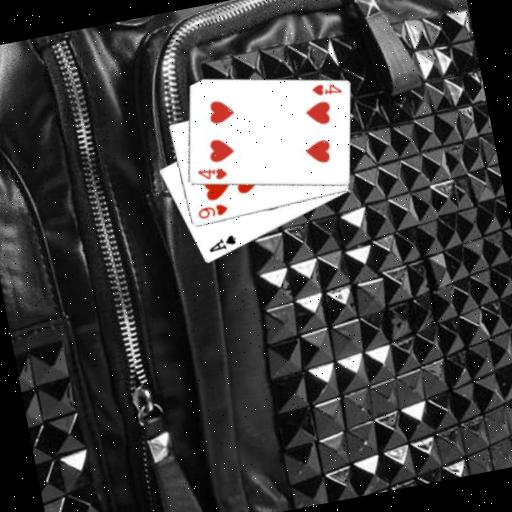4H: (308, 77, 345, 100), (194, 163, 230, 186)
9H: (194, 200, 230, 222)
AS: (204, 231, 239, 255)
